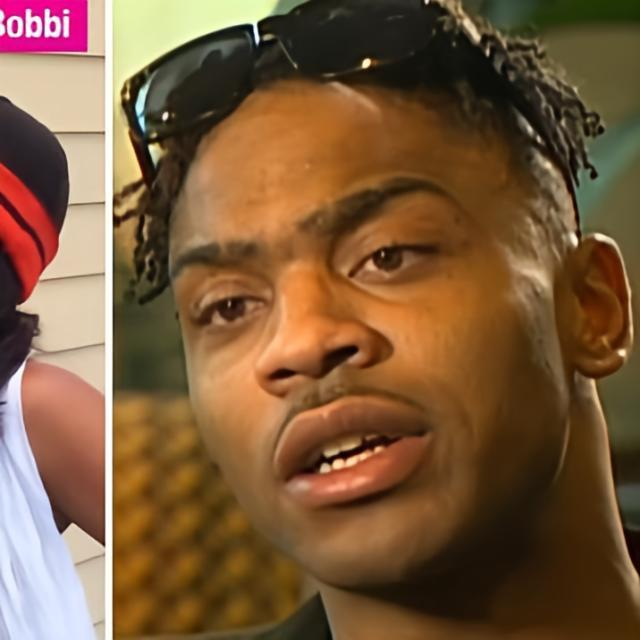sad: (172, 83, 565, 579)
